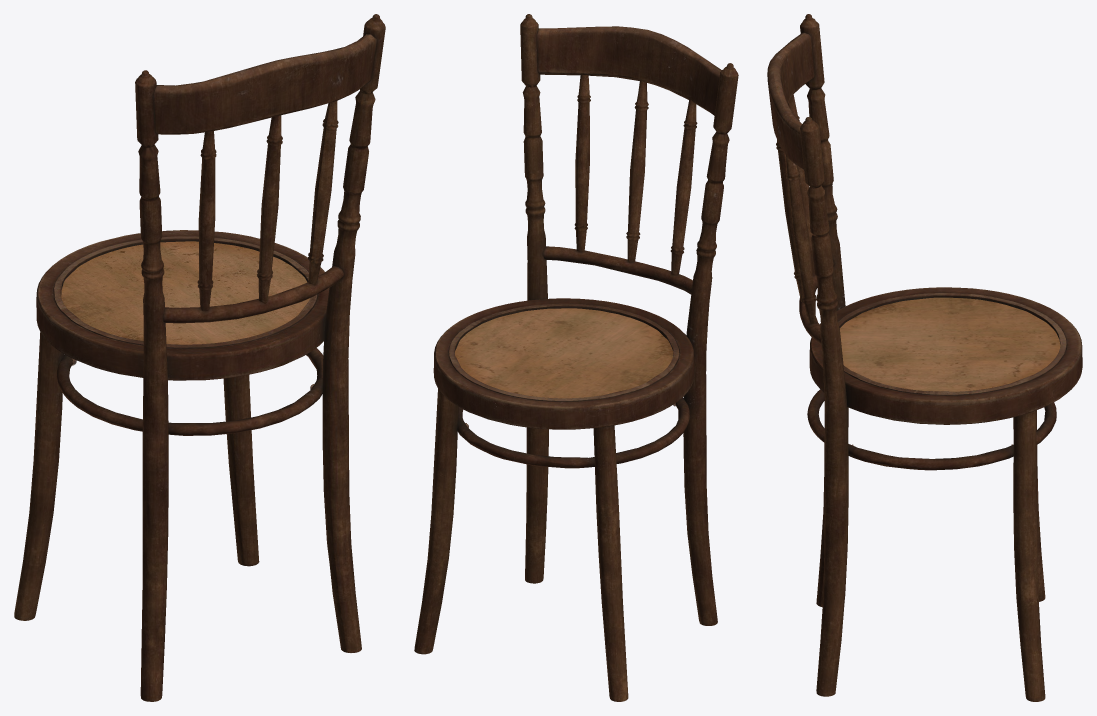
Rendered from chair.glb.
The picture shows the model from 3 angles, left to right: view 1: azimuth 30°, elevation 25°; view 2: azimuth 150°, elevation 25°; view 3: azimuth 270°, elevation 25°; orthographic projection. The views are drawn at different scales.
Parts seen in each view (by area): view 1: Nogi, Setka, Obod_sidenie, Spinka, Perekladini, Obruch, Fixator, Perekladina; view 2: Nogi, Setka, Obod_sidenie, Spinka, Perekladini, Obruch, Fixator, Perekladina; view 3: Nogi, Setka, Obod_sidenie, Spinka, Perekladini, Obruch, Fixator, Perekladina.
Part boxes in pixels (bbox=[...]): Nogi: bbox=[14, 14, 385, 701]; Setka: bbox=[61, 241, 309, 344]; Obod_sidenie: bbox=[36, 230, 329, 380]; Spinka: bbox=[154, 34, 376, 134]; Perekladini: bbox=[197, 101, 338, 310]; Obruch: bbox=[56, 348, 323, 435]; Fixator: bbox=[54, 236, 317, 348]; Perekladina: bbox=[163, 266, 344, 323]; Nogi: bbox=[414, 14, 738, 701]; Setka: bbox=[455, 308, 673, 398]; Obod_sidenie: bbox=[433, 298, 694, 429]; Spinka: bbox=[536, 26, 721, 115]; Perekladini: bbox=[574, 74, 697, 274]; Obruch: bbox=[457, 397, 689, 468]; Fixator: bbox=[449, 303, 679, 401]; Perekladina: bbox=[542, 246, 692, 294]; Nogi: bbox=[800, 14, 1045, 701]; Setka: bbox=[840, 297, 1060, 391]; Obod_sidenie: bbox=[809, 287, 1082, 424]; Spinka: bbox=[767, 32, 814, 169]; Perekladini: bbox=[776, 94, 816, 323]; Obruch: bbox=[807, 389, 1056, 470]; Fixator: bbox=[838, 293, 1066, 395]; Perekladina: bbox=[799, 261, 835, 344].
Size of the model in its own units: 0.3738 by 0.88 by 0.4319.
Materials: 1 (1 with a texture image).
